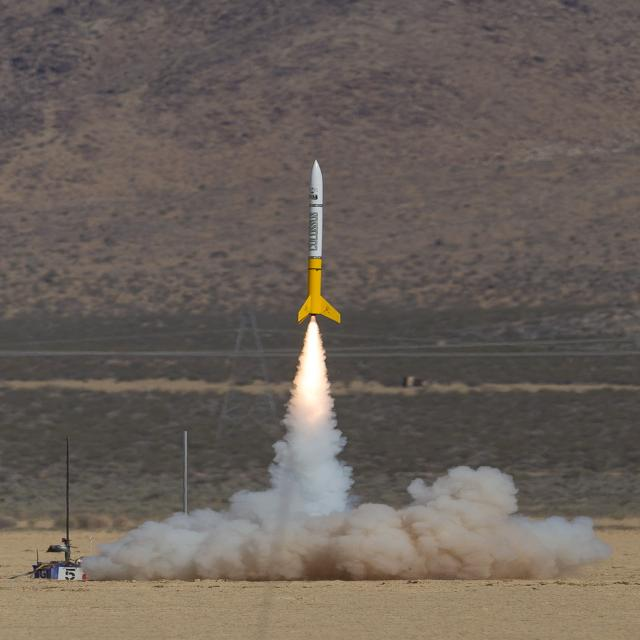Rocket: (296, 159, 342, 324)
